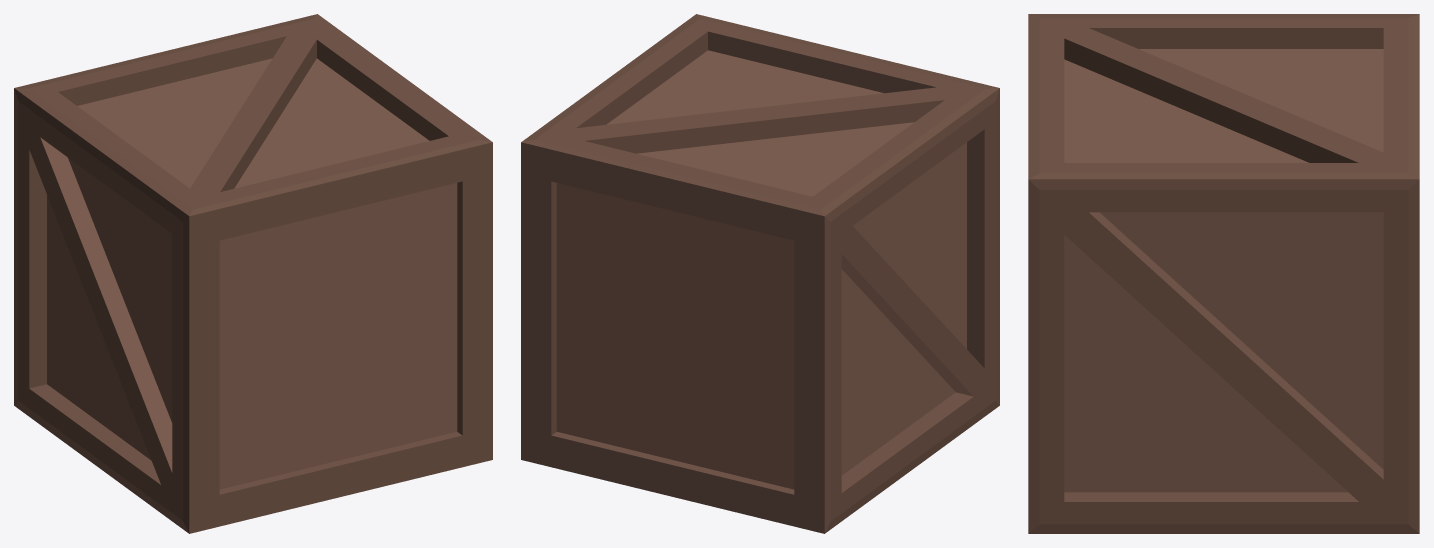
The model's file is Crate.fbx.
3 renders of one model, left to right at view 1: azimuth 30°, elevation 25°; view 2: azimuth 150°, elevation 25°; view 3: azimuth 270°, elevation 25°, orthographic. The views are drawn at different scales.
Parts seen in each view (by area): view 1: Crate; view 2: Crate; view 3: Crate.
Boxes of the visible parts, x1,y1,x2,y2 form: Crate: [14, 14, 492, 533]; Crate: [521, 14, 999, 533]; Crate: [1028, 14, 1419, 533].
Size of the model in its own units: 369 by 369 by 367.
